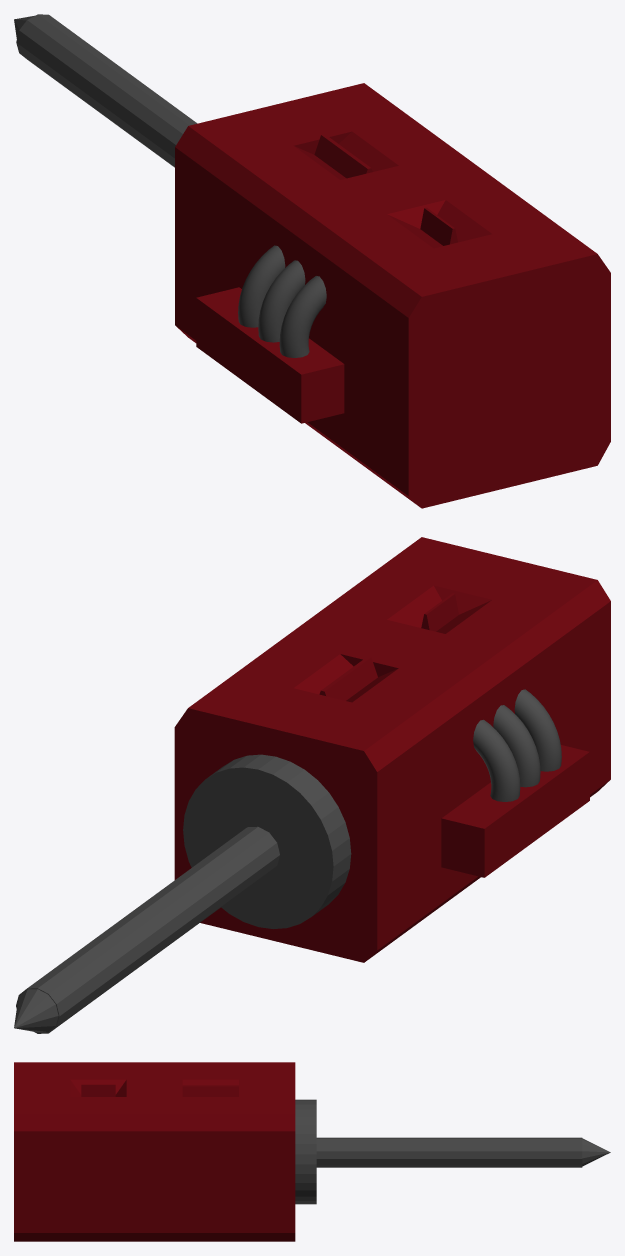
Rendered from Drill - Prototype.fbx.
3 renders of one model, top to bottom at view 1: azimuth 30°, elevation 25°; view 2: azimuth 150°, elevation 25°; view 3: azimuth 270°, elevation 25°, orthographic. The views are drawn at different scales.
Parts seen in each view (by area): view 1: Cube, Cube.001, Cylinder.001, Torus.002, Torus.001, Torus; view 2: Cube, Cylinder, Cylinder.001, Cube.001, Torus, Torus.002, Torus.001, Cone; view 3: Cube, Cylinder.001, Cylinder, Cone.
Boxes of the visible parts, <box> form: Cube: <box>175,83,610,508</box>; Cube.001: <box>196,287,344,423</box>; Cylinder.001: <box>16,14,197,167</box>; Torus.002: <box>279,276,326,357</box>; Torus.001: <box>258,260,305,342</box>; Torus: <box>238,245,285,327</box>; Cube: <box>174,537,610,962</box>; Cylinder: <box>183,754,351,928</box>; Cylinder.001: <box>16,826,279,1033</box>; Cube.001: <box>441,745,589,877</box>; Torus: <box>473,719,520,801</box>; Torus.002: <box>514,689,561,771</box>; Torus.001: <box>493,705,540,787</box>; Cone: <box>14,989,58,1032</box>; Cube: <box>14,1062,295,1241</box>; Cylinder.001: <box>316,1137,582,1167</box>; Cylinder: <box>295,1099,316,1204</box>; Cone: <box>582,1138,610,1166</box>.
Size of the model in its own units: 72.78 by 61.68 by 255.
